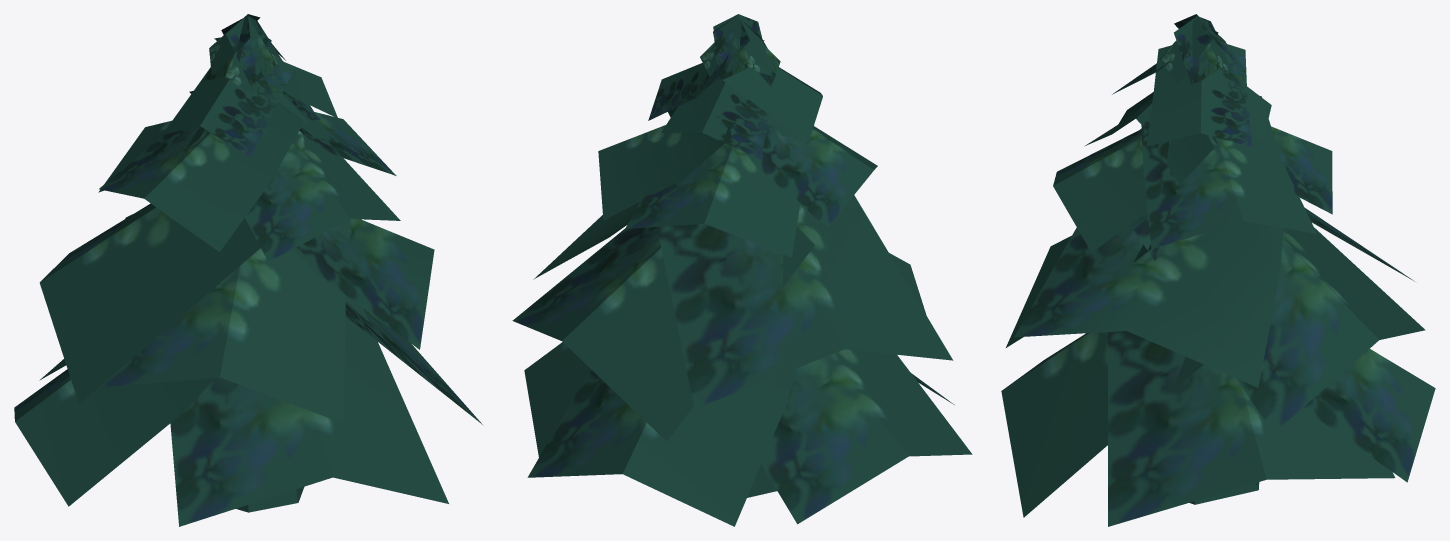
File: FB1_songshu02.FBX
The picture shows the model from 3 angles, left to right: view 1: azimuth 30°, elevation 25°; view 2: azimuth 150°, elevation 25°; view 3: azimuth 270°, elevation 25°; orthographic projection.
Visible parts, largest first — view 1: FB1_songshu01_001, FB1_songshu01_002; view 2: FB1_songshu01_001; view 3: FB1_songshu01_001.
Boxes of the visible parts, box(x1,y1,x2,y2) form: FB1_songshu01_001: box(14, 14, 483, 526); FB1_songshu01_002: box(236, 487, 304, 512); FB1_songshu01_001: box(512, 14, 972, 526); FB1_songshu01_001: box(1001, 14, 1435, 526).
Bounding box in the file's own units: 794 × 882 × 755.
Materials: 1 (1 with a texture image).
